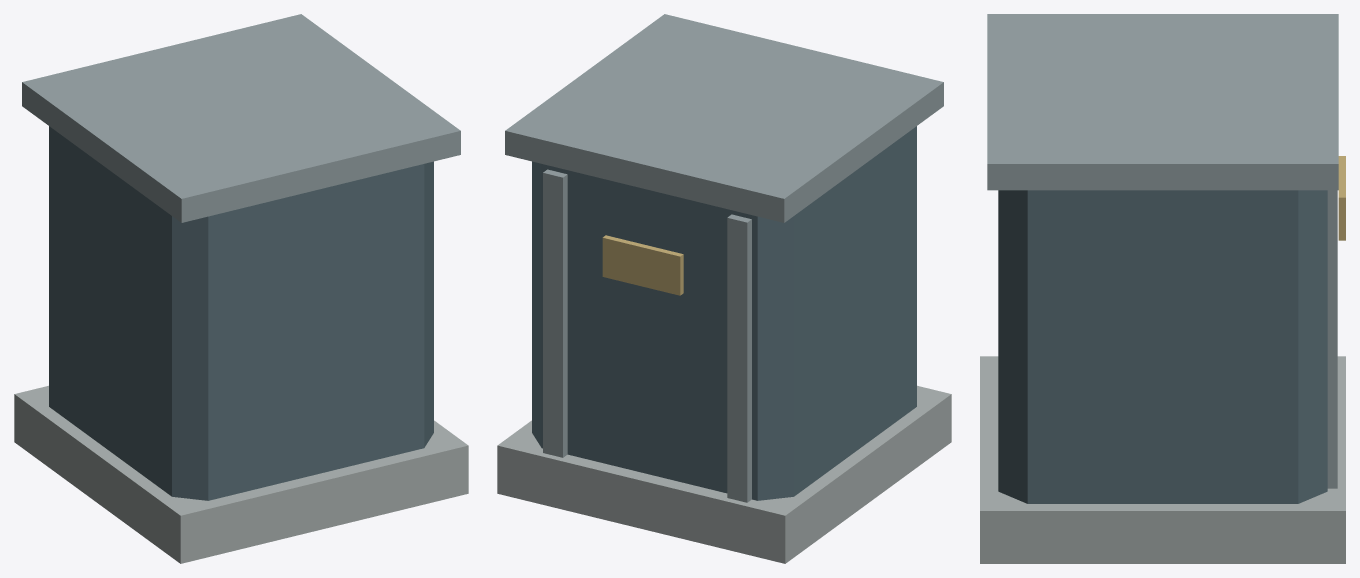
Rendered from wall-low.glb.
The picture shows the model from 3 angles, left to right: view 1: azimuth 30°, elevation 25°; view 2: azimuth 150°, elevation 25°; view 3: azimuth 270°, elevation 25°; orthographic projection. The views are drawn at different scales.
Visible parts, largest first — view 1: asset_wall__FP_Baked; view 2: asset_wall__FP_Baked; view 3: asset_wall__FP_Baked.
Boxes of the visible parts, <box> form: asset_wall__FP_Baked: <box>14,14,468,563</box>; asset_wall__FP_Baked: <box>497,14,951,563</box>; asset_wall__FP_Baked: <box>980,14,1345,563</box>.
Size of the model in its own units: 1 by 1.2 by 1.
